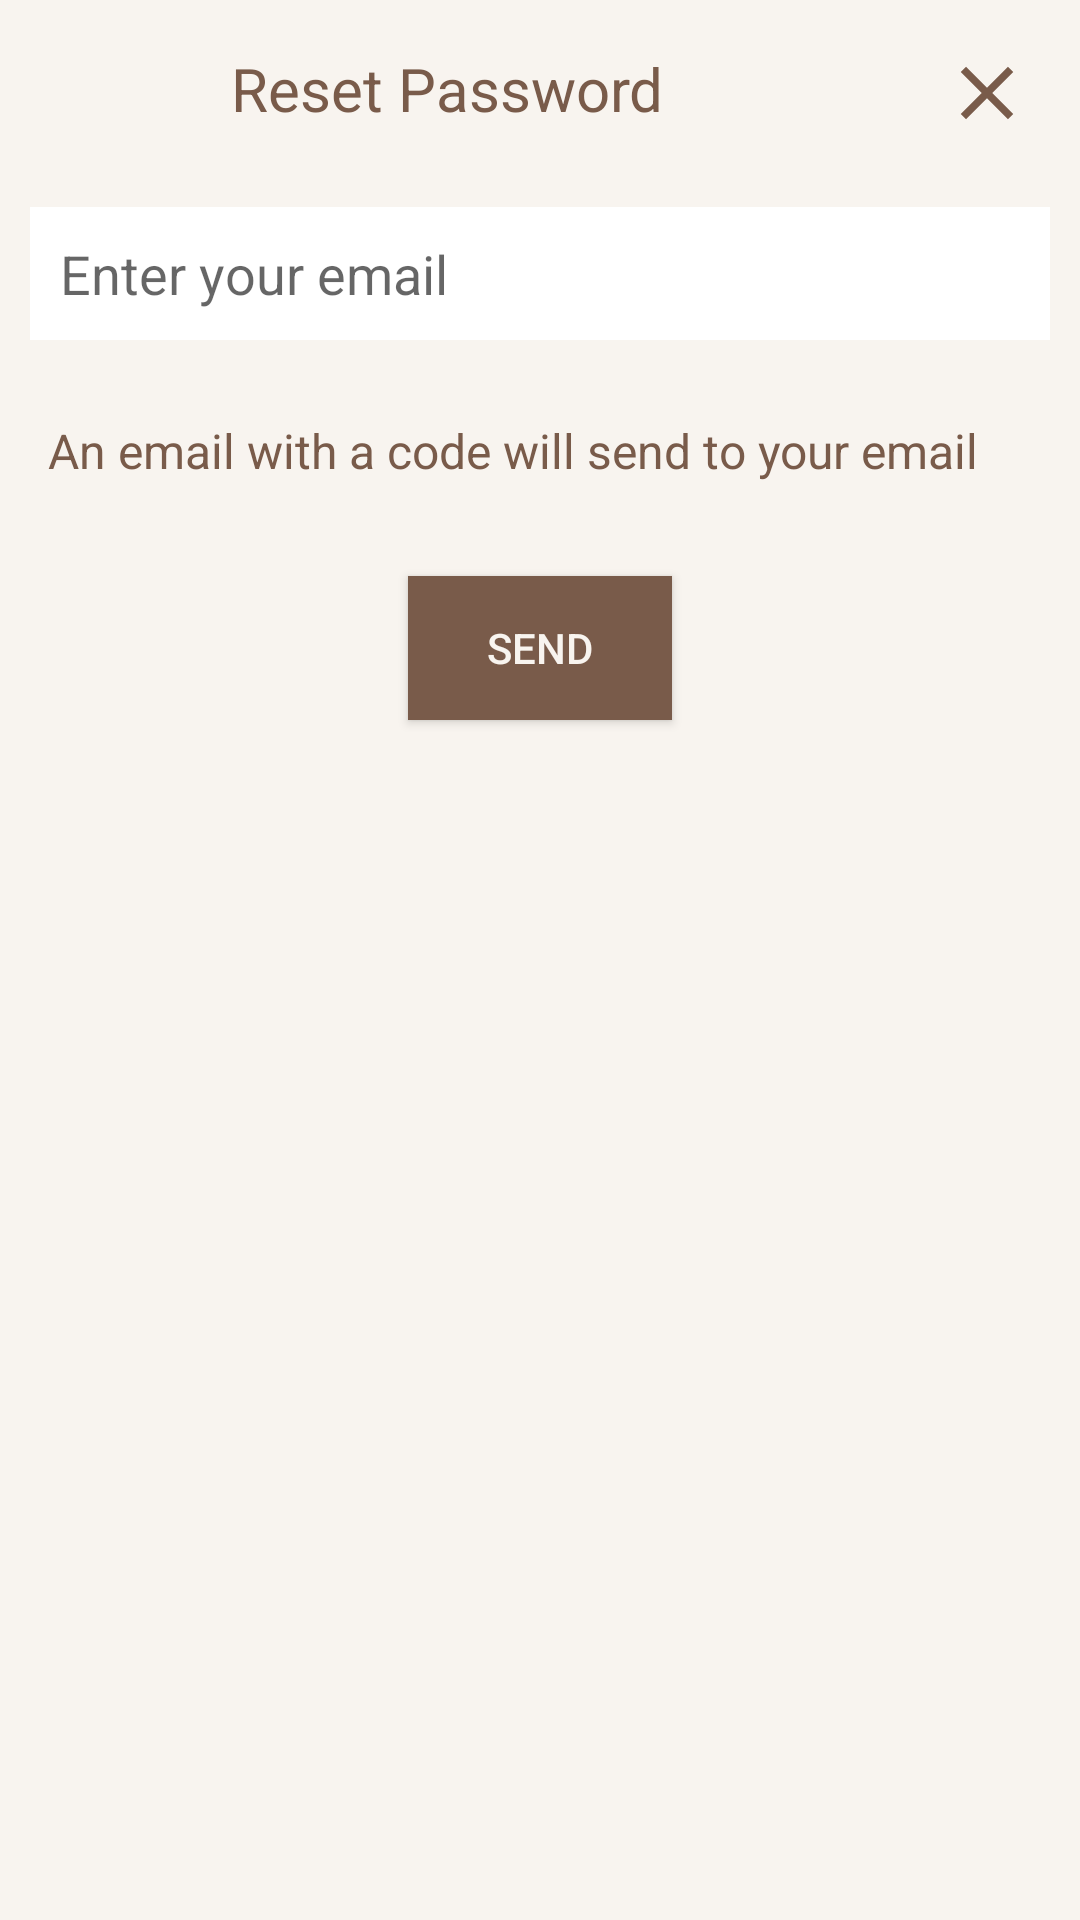

Where to tap for icons on this 1080 x 1920 app screen, as point (x, y):
close: point (987, 93)
